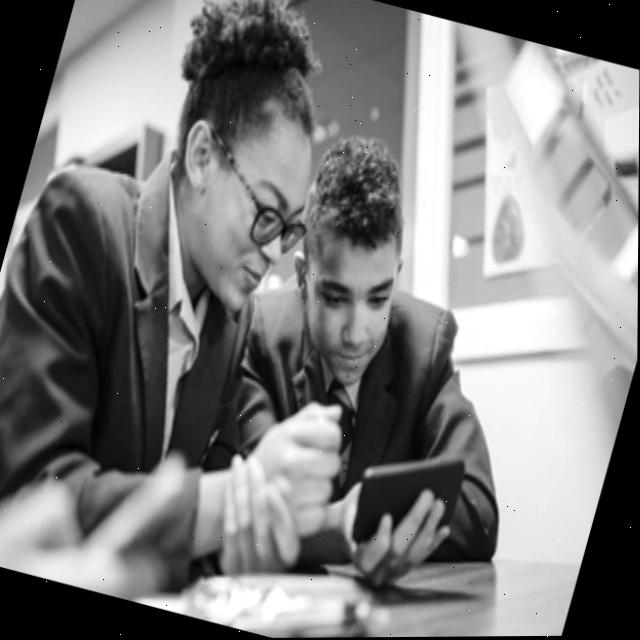phone: (58, 423, 211, 579), (332, 430, 483, 572)
